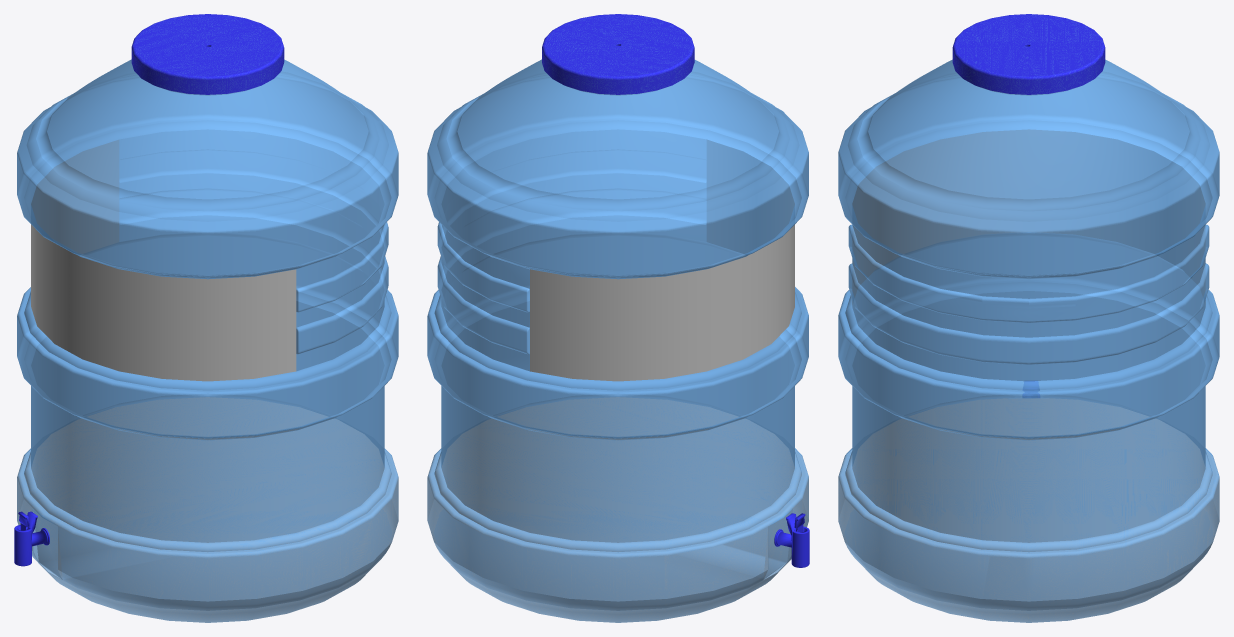
3 views of the same model, side by side, from view 1: azimuth 30°, elevation 25°; view 2: azimuth 150°, elevation 25°; view 3: azimuth 270°, elevation 25° (orthographic).
Parts seen in each view (by area): view 1: mesh1_mesh1-geometry, mesh118_mesh118-geometry; view 2: mesh1_mesh1-geometry, mesh118_mesh118-geometry; view 3: mesh1_mesh1-geometry.
Part boxes in pixels (x1,y1,x2,y2): mesh1_mesh1-geometry: (17, 14, 398, 622); mesh118_mesh118-geometry: (14, 511, 37, 566); mesh1_mesh1-geometry: (427, 14, 808, 622); mesh118_mesh118-geometry: (786, 513, 809, 567); mesh1_mesh1-geometry: (838, 14, 1219, 622).
Size of the model in its own units: 0.5134 by 0.714 by 0.476.
